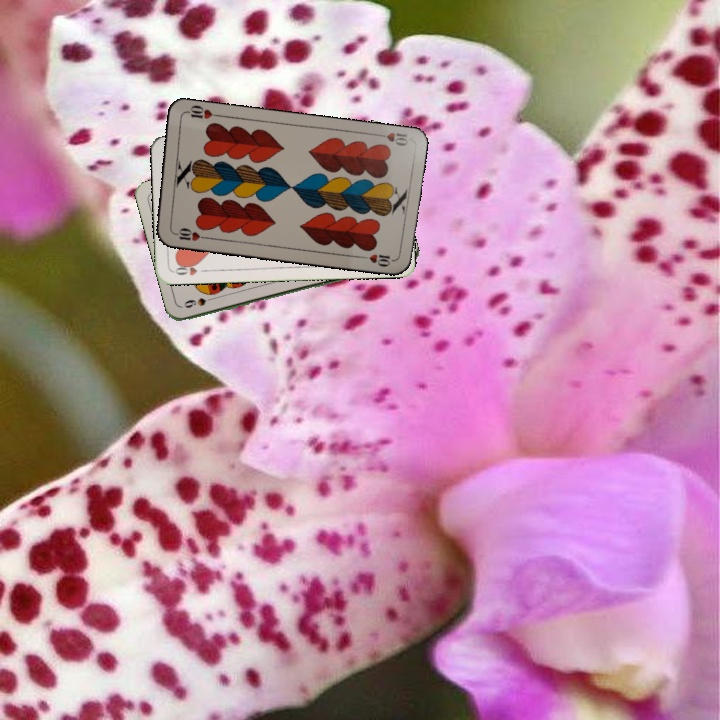H10: (371, 128, 411, 149), (168, 224, 209, 243)
HO: (170, 259, 210, 278)
S9: (180, 293, 220, 311)
